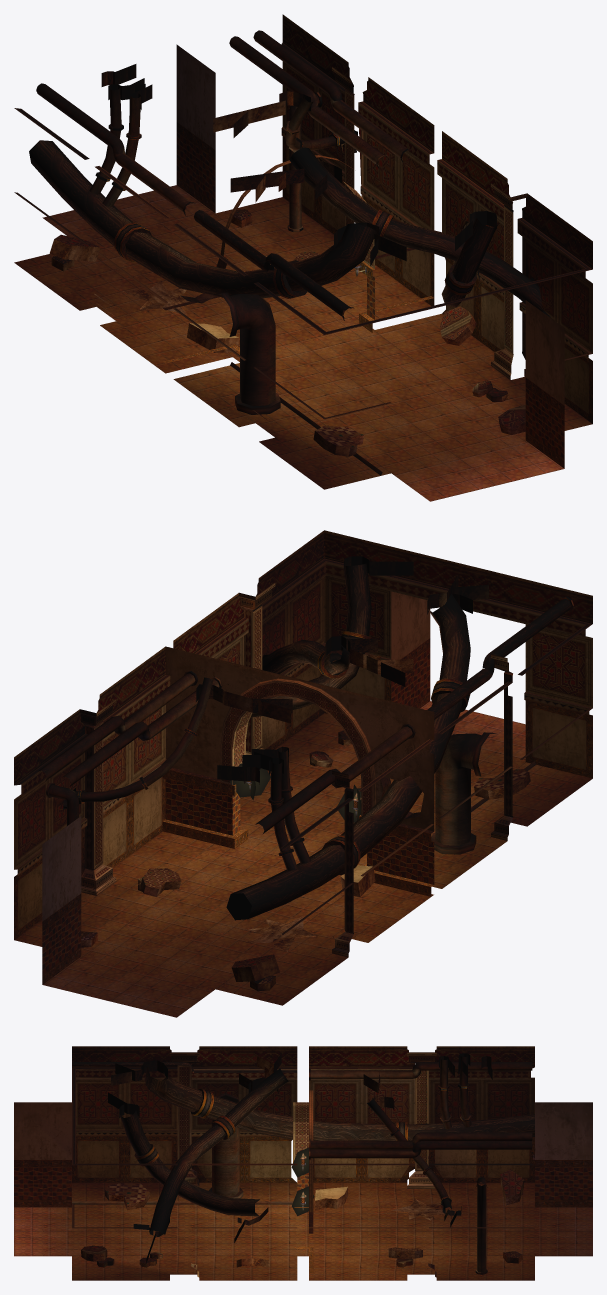
File: 03Connection.gltf
3 renders of one model, top to bottom at view 1: azimuth 30°, elevation 25°; view 2: azimuth 150°, elevation 25°; view 3: azimuth 270°, elevation 25°, orthographic. The views are drawn at different scales.
Parts seen in each view (by area): view 1: stg030_o05_Mesh_12, stg030_o05_Mesh_9, stg030_o10_Mesh_50, stg030_o10_Mesh_16, stg030_o05_Mesh_11, stg030_o10_Mesh_33, stg030_o10_Mesh_28, stg030_o10_Mesh_20, stg030_o10_Mesh_31, stg030_o10_Mesh_4; view 2: stg030_o05_Mesh_12, stg030_o05_Mesh_9, stg030_o10_Mesh_16, stg030_o10_Mesh_33, stg030_o10_Mesh_50, stg030_o10_Mesh_28, stg030_o10_Mesh_20, stg030_o05_Mesh_11, stg030_o10_Mesh_4, stg030_o10_Mesh_31, stg030_g05_Mesh_0; view 3: stg030_o05_Mesh_12, stg030_o05_Mesh_9, stg030_o10_Mesh_16, stg030_o10_Mesh_50, stg030_o10_Mesh_33, stg030_o10_Mesh_20, stg030_o10_Mesh_28, stg030_o05_Mesh_11, stg030_o10_Mesh_4, stg030_o10_Mesh_31, stg030_g05_Mesh_0.
Part boxes in pixels (box(x1,y1,x2,y2)): stg030_o05_Mesh_12: box(14, 185, 592, 501); stg030_o05_Mesh_9: box(29, 30, 543, 475); stg030_o10_Mesh_50: box(54, 61, 592, 426); stg030_o10_Mesh_16: box(176, 44, 588, 413); stg030_o05_Mesh_11: box(49, 64, 550, 456); stg030_o10_Mesh_33: box(163, 122, 592, 468); stg030_o10_Mesh_28: box(14, 42, 592, 419); stg030_o10_Mesh_20: box(282, 14, 592, 269); stg030_o10_Mesh_31: box(94, 67, 527, 432); stg030_o10_Mesh_4: box(52, 93, 511, 447); stg030_o05_Mesh_12: box(14, 701, 592, 1017); stg030_o05_Mesh_9: box(38, 563, 574, 920); stg030_o10_Mesh_16: box(18, 591, 586, 929); stg030_o10_Mesh_33: box(14, 638, 592, 984); stg030_o10_Mesh_50: box(14, 575, 592, 967); stg030_o10_Mesh_28: box(14, 558, 592, 948); stg030_o10_Mesh_20: box(14, 530, 592, 785); stg030_o05_Mesh_11: box(63, 556, 530, 991); stg030_o10_Mesh_4: box(81, 609, 528, 983); stg030_o10_Mesh_31: box(80, 582, 512, 957); stg030_g05_Mesh_0: box(230, 763, 362, 822); stg030_o05_Mesh_12: box(14, 1182, 592, 1280); stg030_o05_Mesh_9: box(72, 1056, 534, 1274); stg030_o10_Mesh_16: box(14, 1102, 592, 1200); stg030_o10_Mesh_50: box(76, 1077, 534, 1263); stg030_o10_Mesh_33: box(14, 1136, 592, 1273); stg030_o10_Mesh_20: box(72, 1046, 534, 1067); stg030_o10_Mesh_28: box(72, 1057, 534, 1268); stg030_o05_Mesh_11: box(81, 1053, 523, 1267); stg030_o10_Mesh_4: box(105, 1067, 521, 1257); stg030_o10_Mesh_31: box(170, 1052, 436, 1277); stg030_g05_Mesh_0: box(291, 1147, 314, 1215).
Size of the model in its own units: 21.57 by 15.04 by 50.
14 materials, 13 textured.
